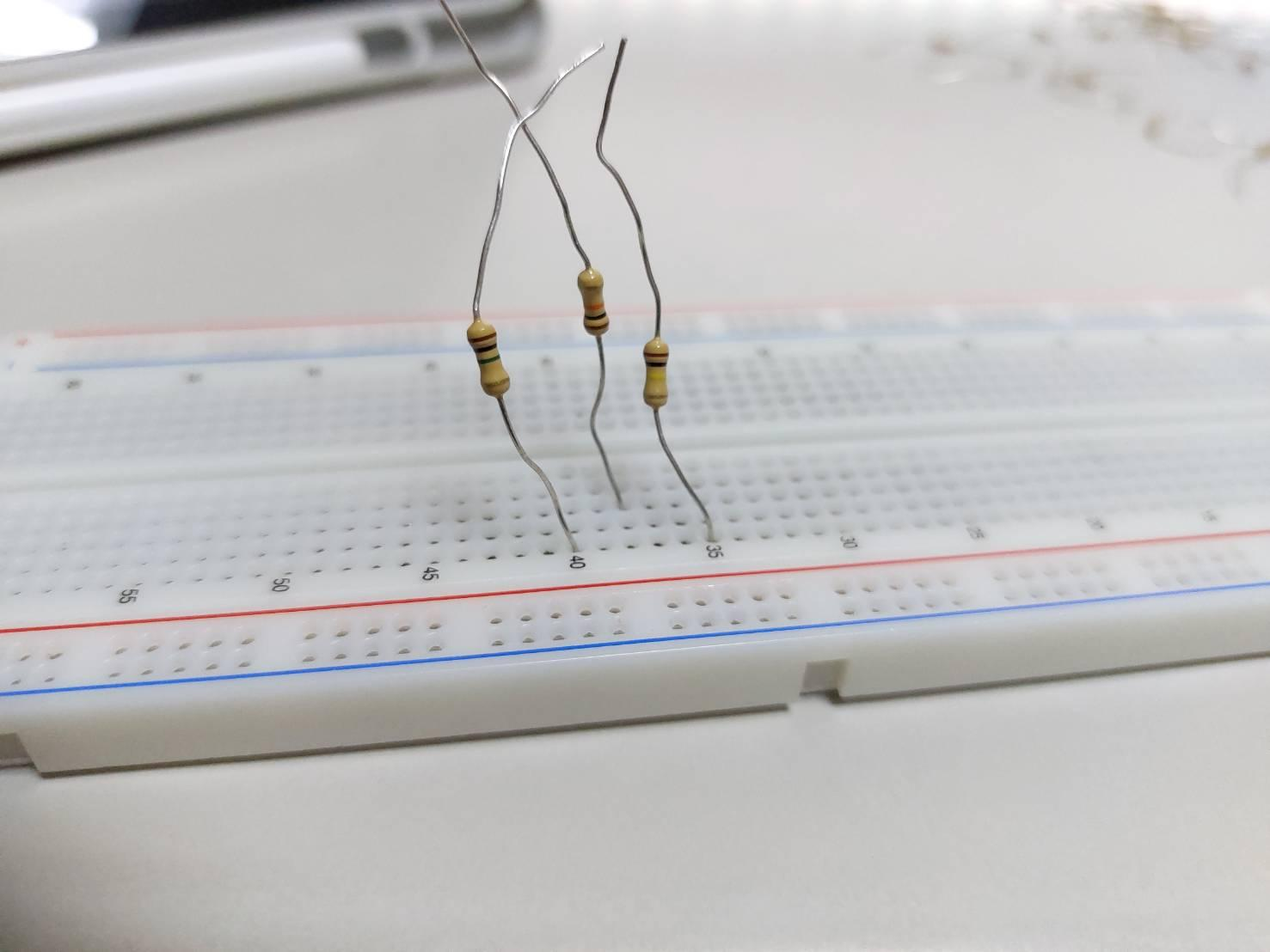resistor: (465, 319, 515, 399), (575, 270, 612, 337), (642, 340, 670, 409)
